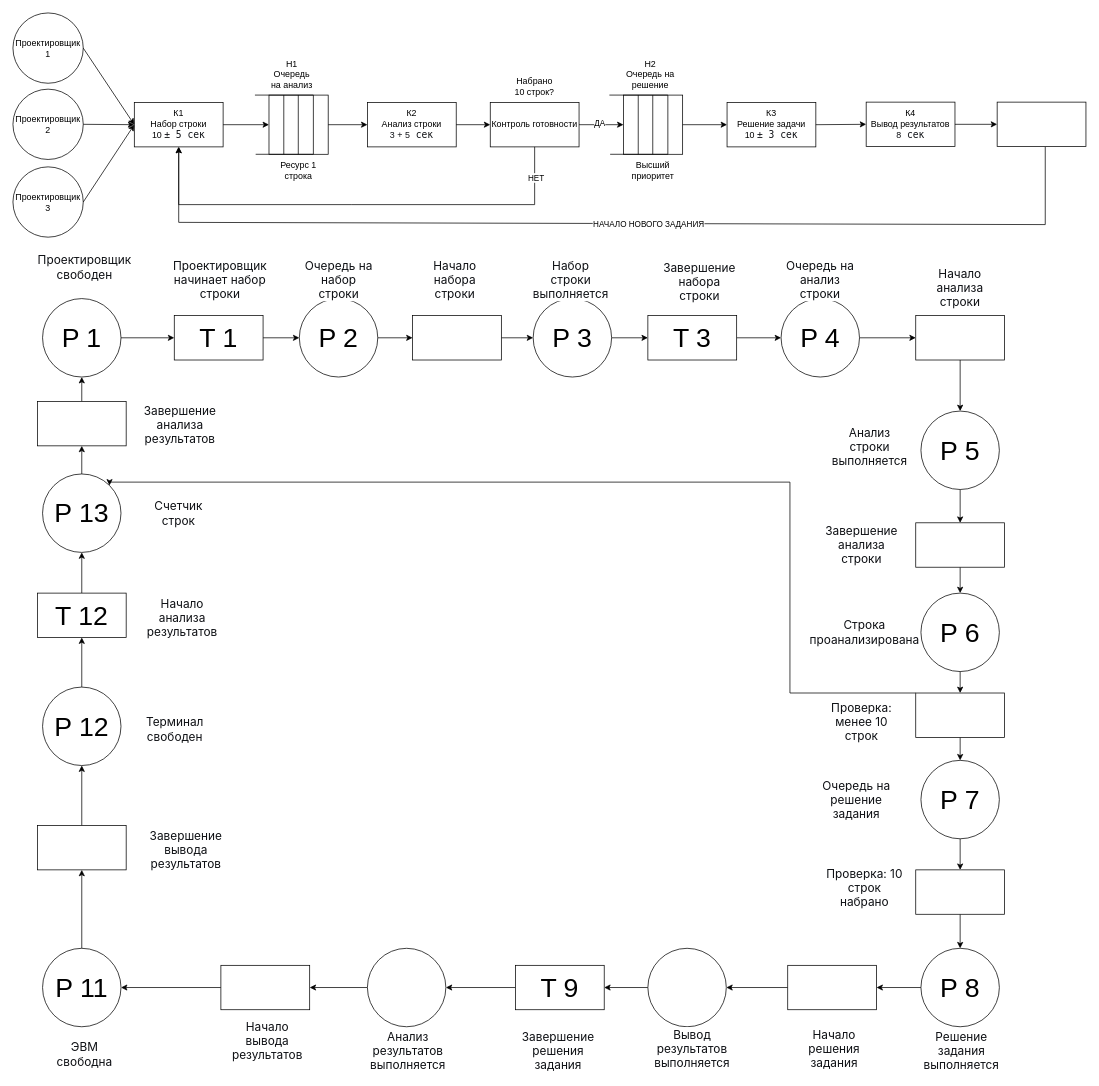
Image size: 1099x1086. Some labels were removed from this diagram. Each missing label, with the centre of its shape:
P 10: point 406,987
P 9: point 686,987
T 10: point 265,987
T 11: point 81,847
T 13: point 81,423
T 2: point 456,337
T 4: point 960,337
T 5: point 960,544
T 6: point 960,714
T 7: point 960,891
T 8: point 832,987
К5 Анализ результатов 30 ± 10 сек: point 1041,124
